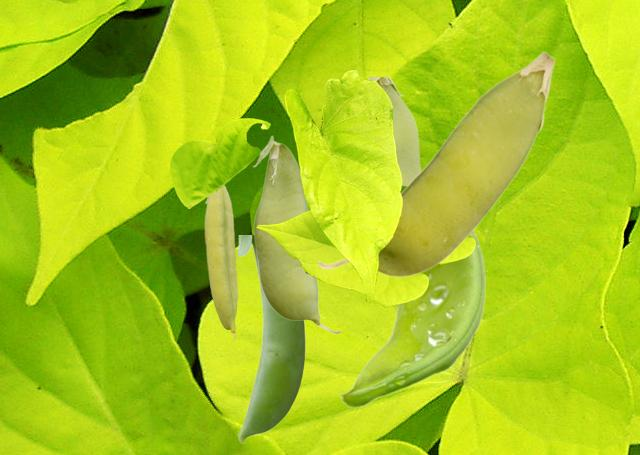pea: (317, 51, 554, 276), (338, 230, 484, 406), (252, 135, 341, 333), (238, 235, 304, 442), (369, 77, 421, 184), (204, 185, 237, 338)
